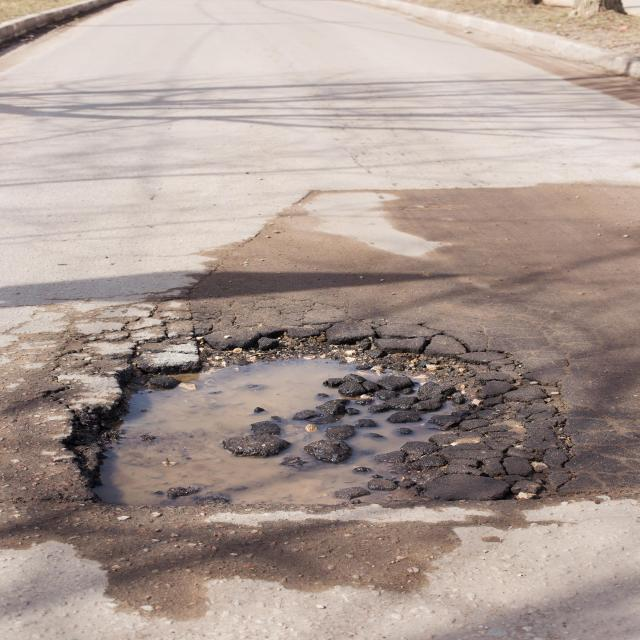Pothole: (58, 330, 562, 508)
